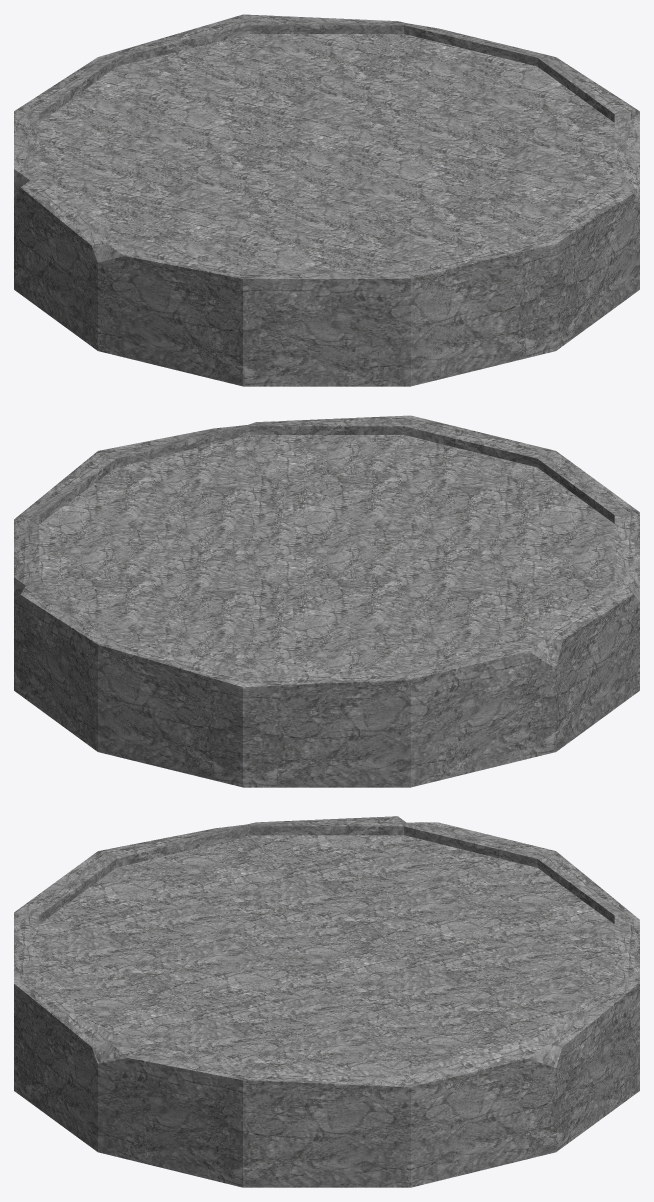
File: materials_3_base_3.fbx
3 views of the same model, one above another, from view 1: azimuth 30°, elevation 25°; view 2: azimuth 150°, elevation 25°; view 3: azimuth 270°, elevation 25° (orthographic).
Parts seen in each view (by area): view 1: materials_3_base_3; view 2: materials_3_base_3; view 3: materials_3_base_3.
Boxes of the visible parts, x1=… form: materials_3_base_3: x1=14, y1=14, x2=639, y2=386; materials_3_base_3: x1=14, y1=415, x2=639, y2=787; materials_3_base_3: x1=14, y1=816, x2=639, y2=1187.
Size of the model in its own units: 470 by 88.97 by 470.
